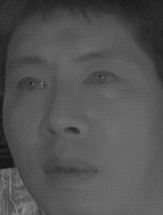eye: (79, 67, 121, 92), (12, 75, 52, 97)
mouth: (41, 155, 98, 188)
